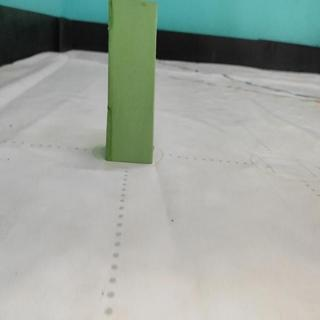greenbox: (105, 1, 160, 165)
